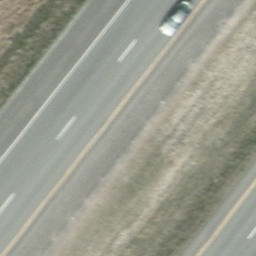car: (157, 0, 194, 40)
